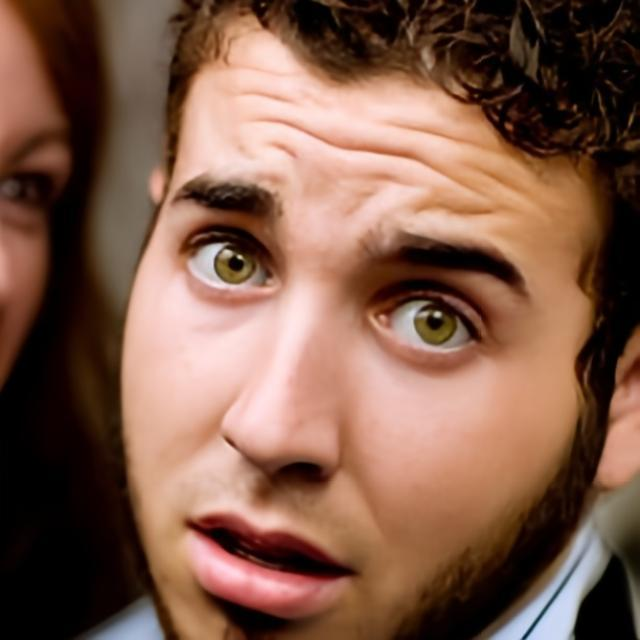Fear: (117, 1, 594, 640)
